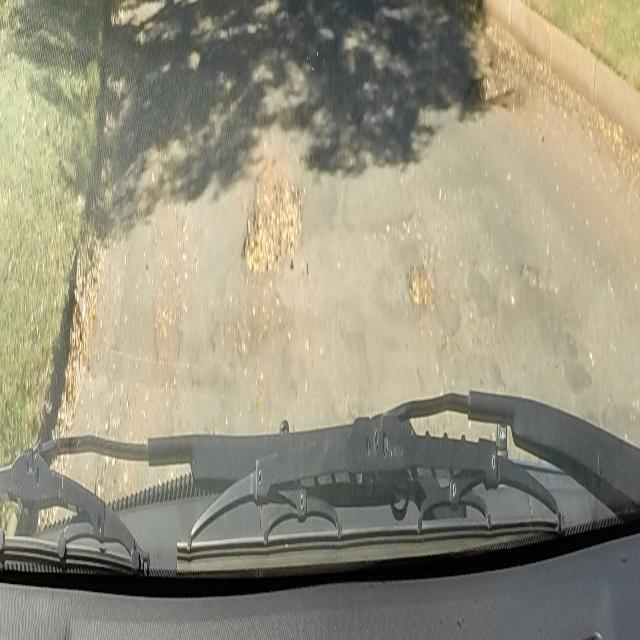pothole: (238, 149, 303, 276), (466, 65, 492, 110), (408, 252, 426, 302)
